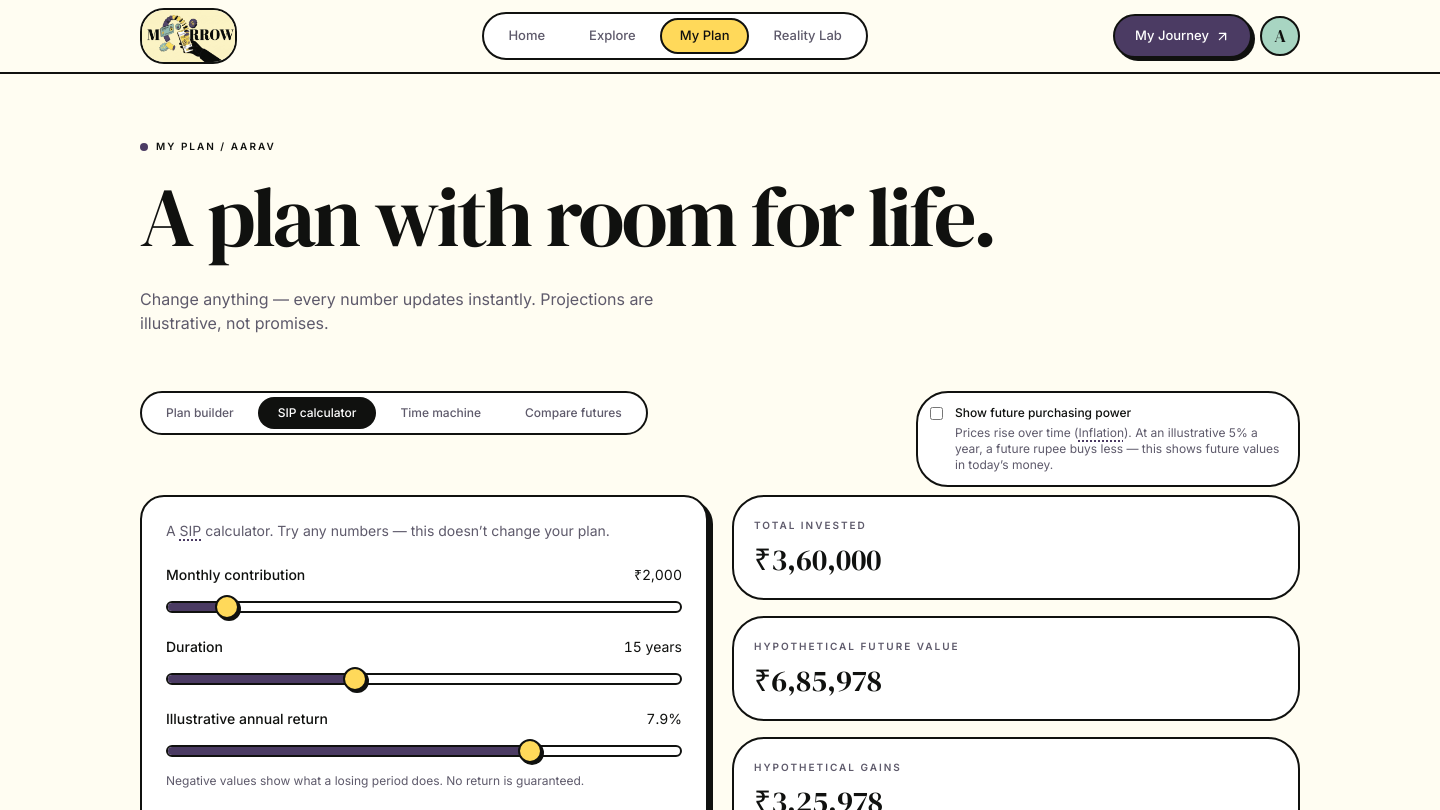
Scenario: My Plan › runs the SIP calculator, time machine, futures and inflation toggle
Expected: the text "Total invested" is shown, x1=754 y1=519 x2=867 y2=531
Click the tab "Time machine" at x=441, y=413, box x1=380 y1=397 x2=501 y2=429
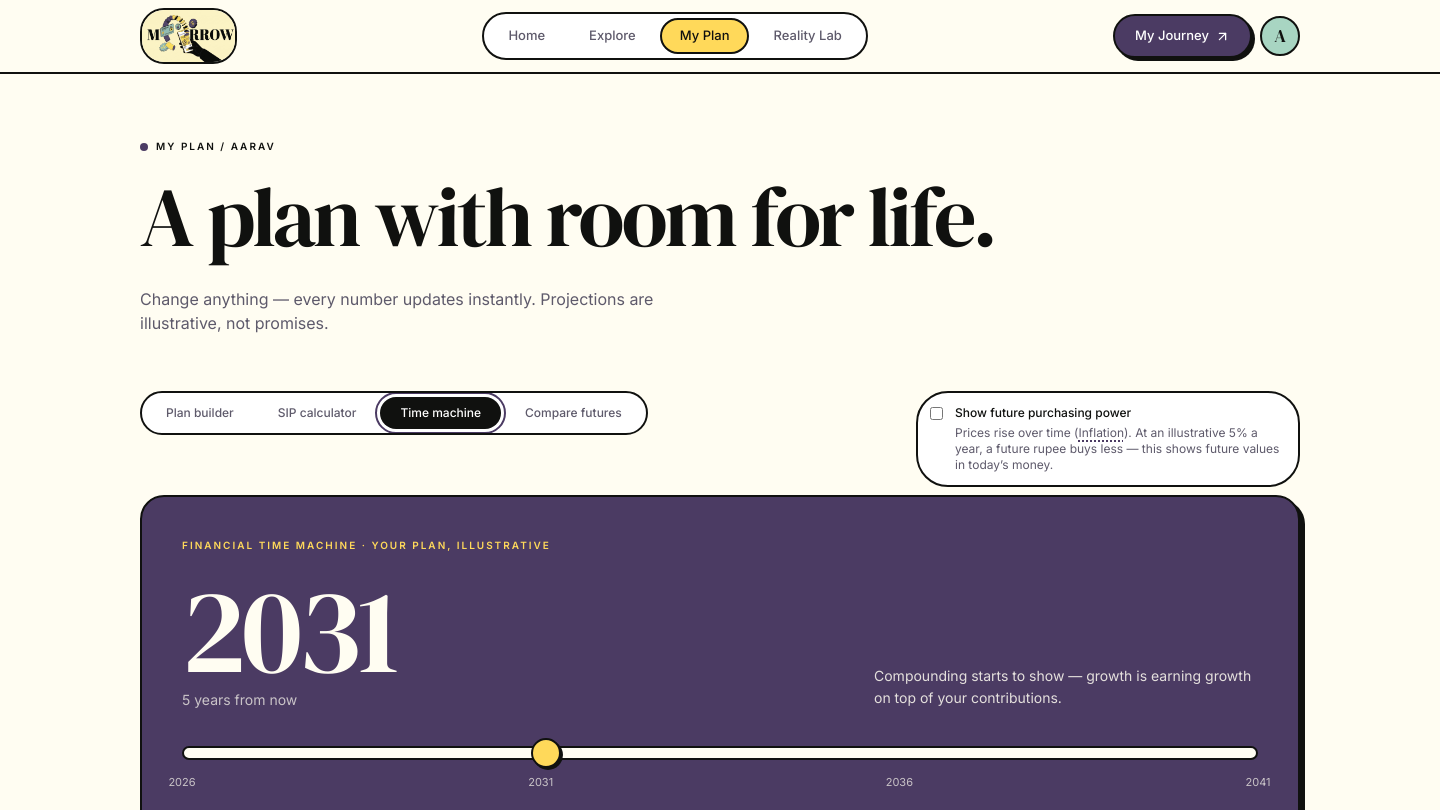
Set the slider named "Year on the timeline" to "0" at x=190, y=753, box x1=182 y1=746 x2=1258 y2=760
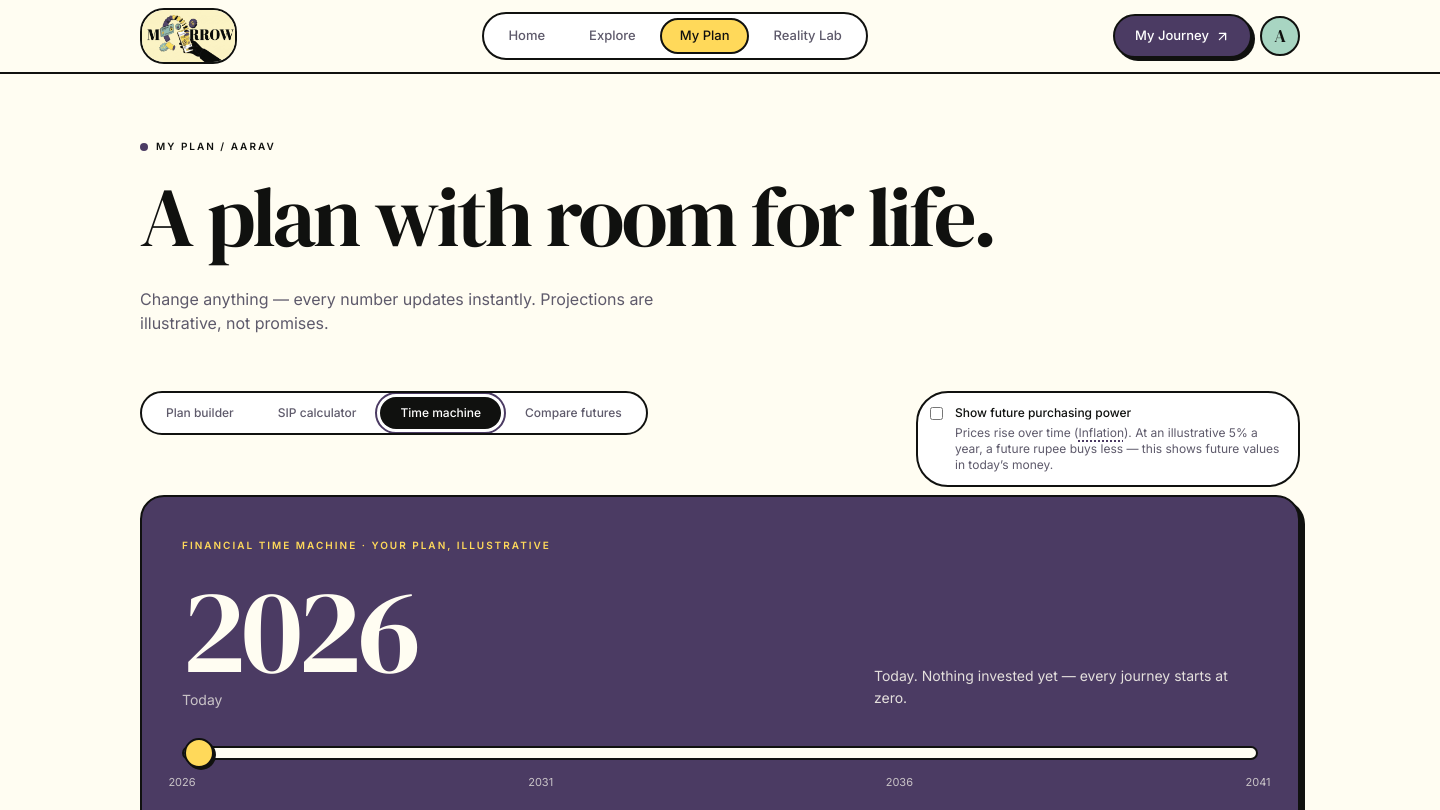
Now the text "Today" is shown, box x1=182 y1=691 x2=222 y2=708
Click the tab "Compare futures" at x=573, y=413, box x1=505 y1=397 x2=642 y2=429
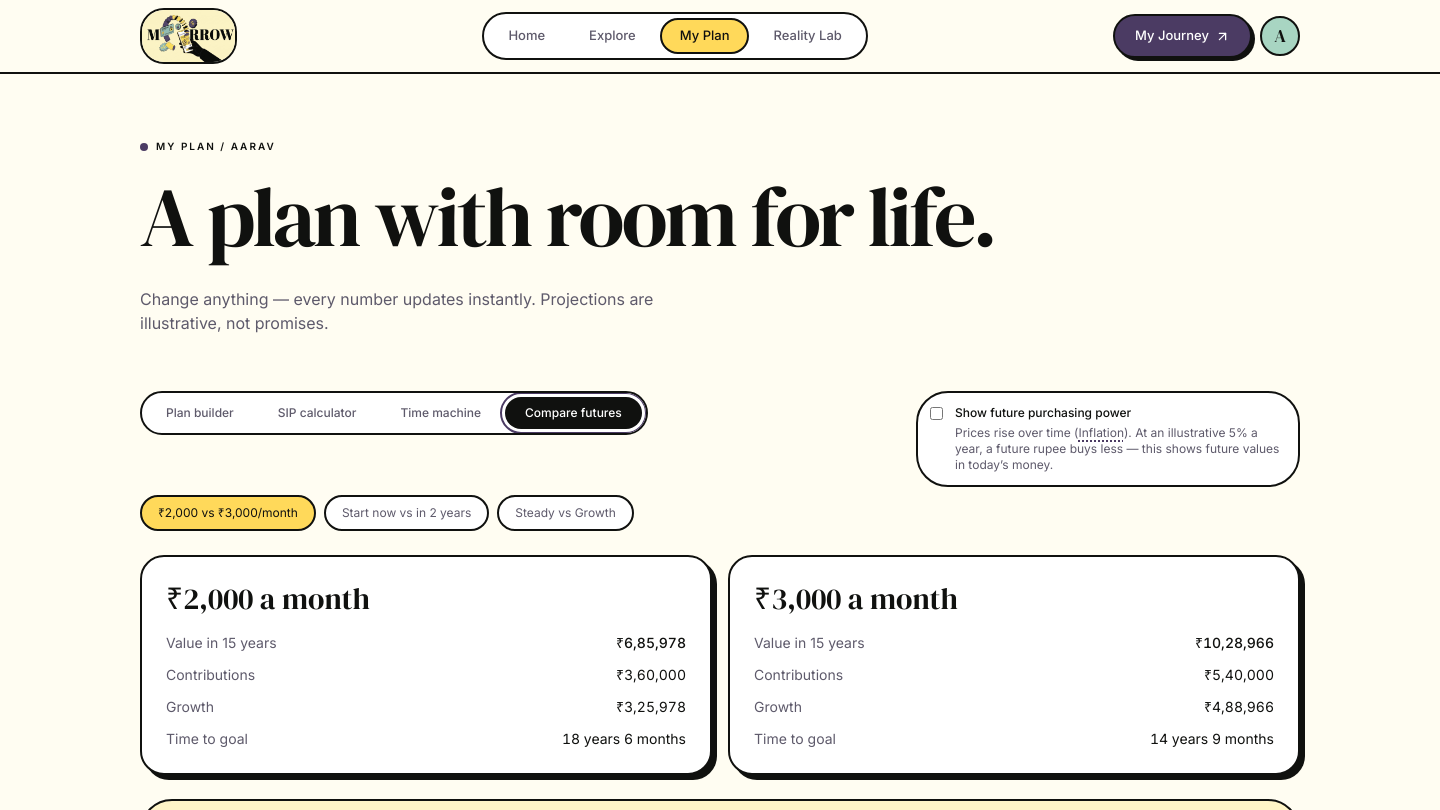
Click the button "Start now vs in 2 years" at x=407, y=513, box x1=324 y1=495 x2=489 y2=531
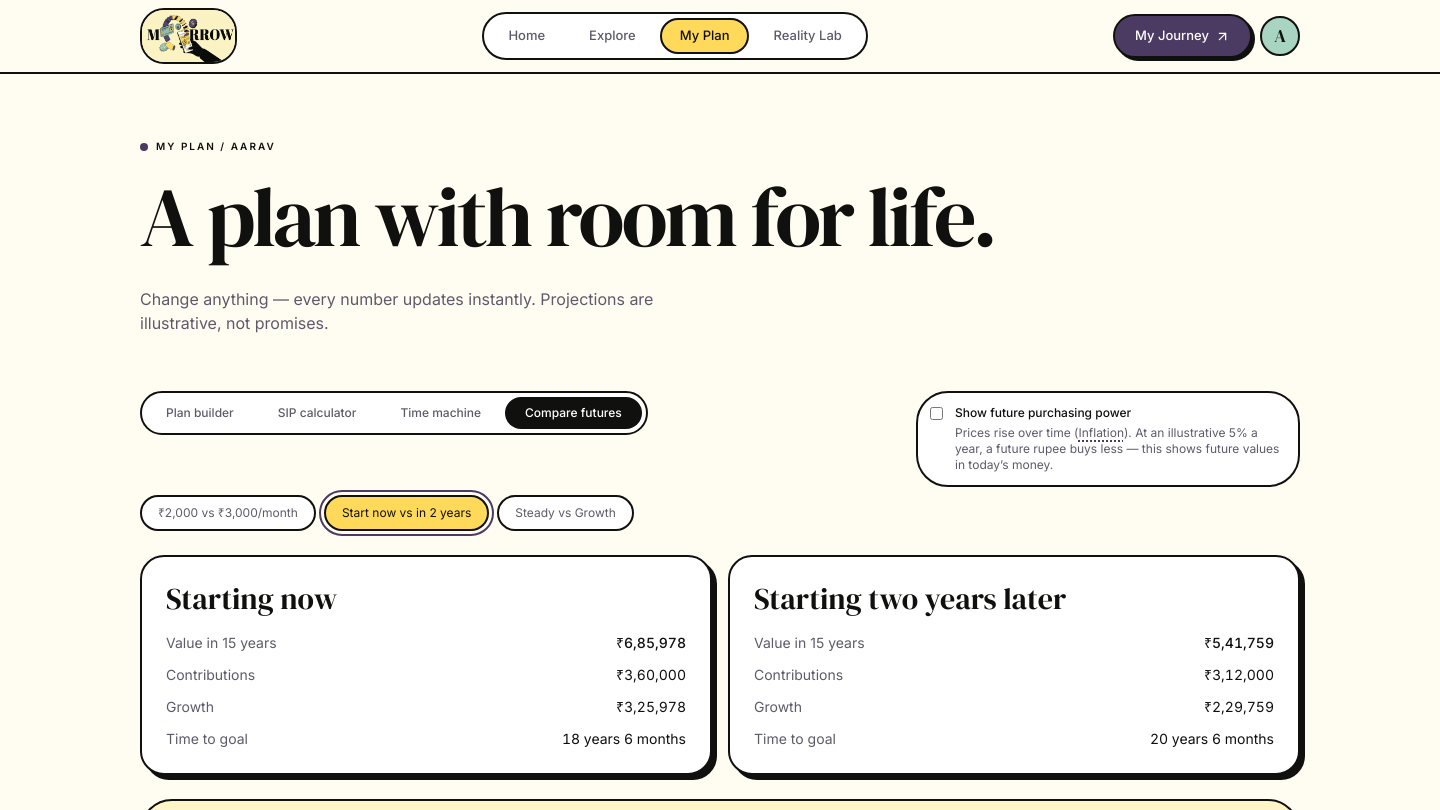
Now the heading "Starting two years later" is shown, box x1=754 y1=578 x2=1066 y2=619
Click the checkbox labelled "Show future purchasing power" at x=936, y=414, box x1=930 y1=407 x2=943 y2=420
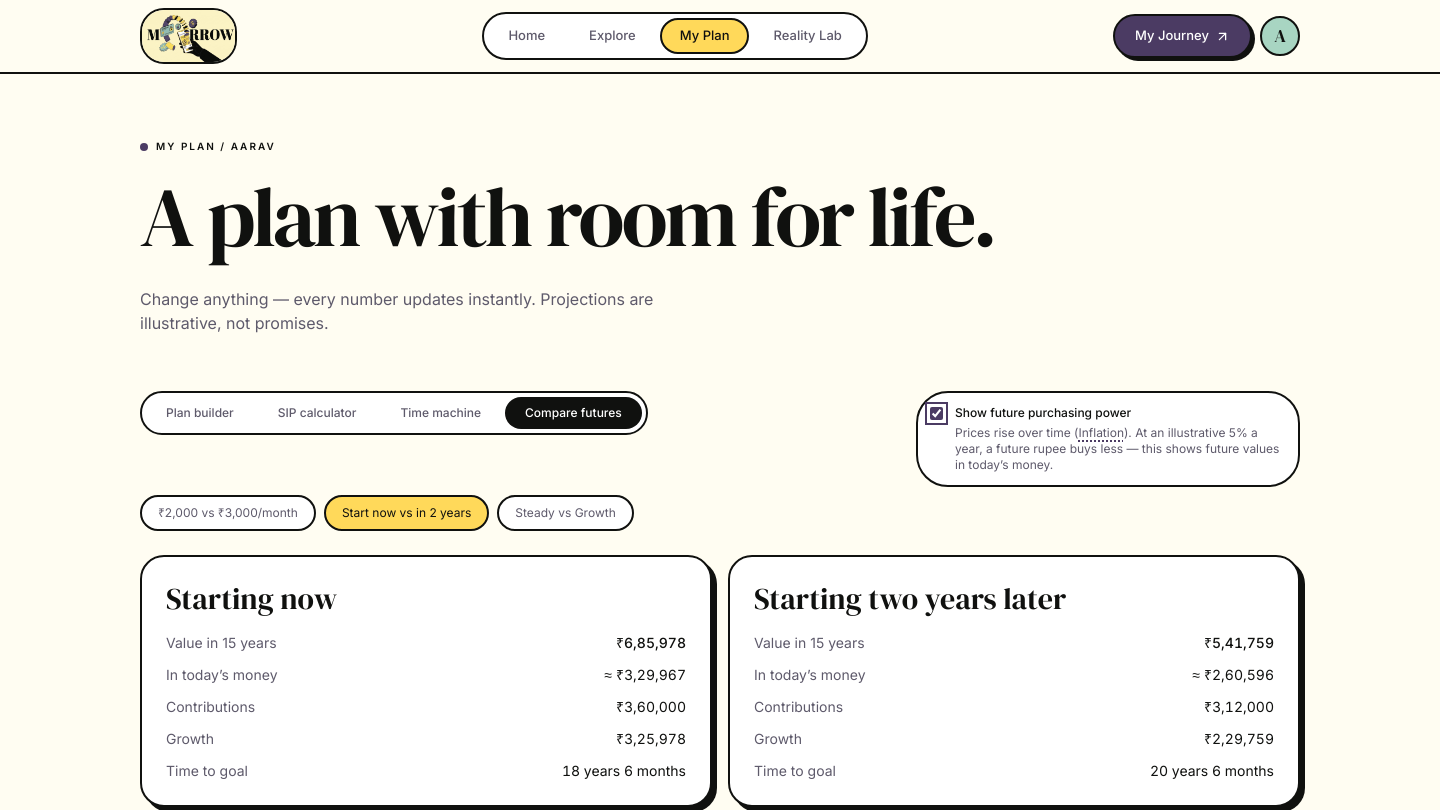
Now the text "In today’s money" is shown 2 times, box x1=166 y1=665 x2=278 y2=685; x1=754 y1=665 x2=866 y2=685
